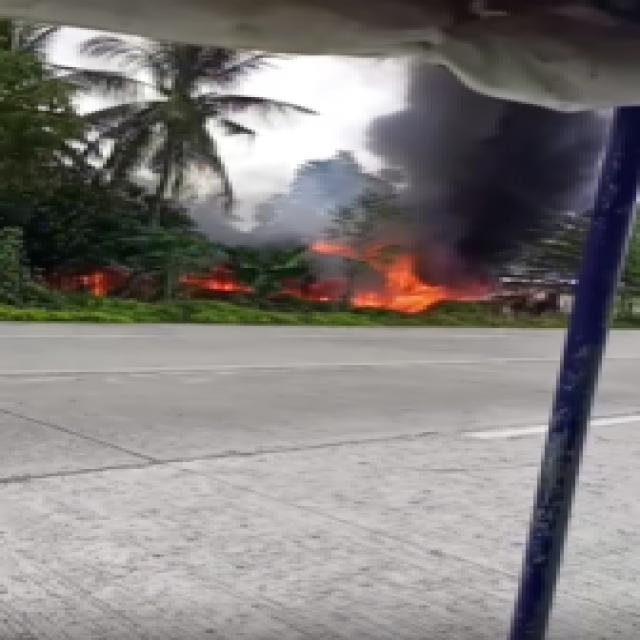Fire: (319, 243, 491, 319)
Smoke: (381, 101, 584, 263), (218, 188, 384, 268)
